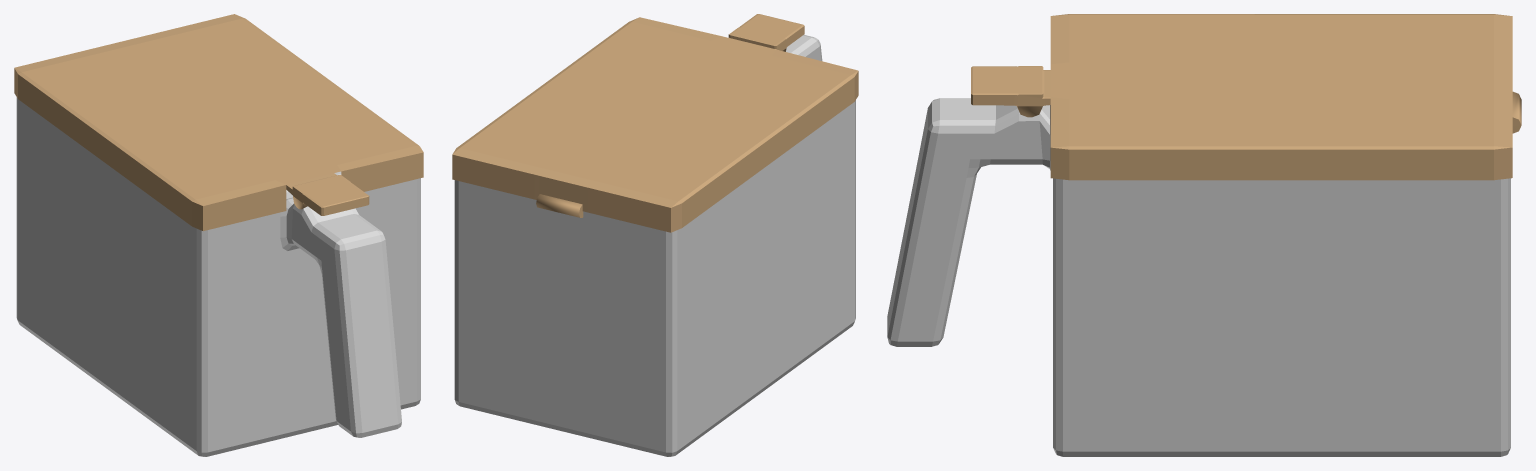
The model's file is sugar10090241.fbx.
The picture shows the model from 3 angles, left to right: view 1: azimuth 30°, elevation 25°; view 2: azimuth 150°, elevation 25°; view 3: azimuth 270°, elevation 25°; orthographic projection. The views are drawn at different scales.
Parts seen in each view (by area): view 1: youki, futa; view 2: youki, futa; view 3: youki, futa.
Part boxes in pixels (x1=…): youki: x1=16, y1=97, x2=420, y2=456; futa: x1=14, y1=14, x2=423, y2=231; youki: x1=454, y1=35, x2=855, y2=456; futa: x1=452, y1=14, x2=858, y2=232; youki: x1=887, y1=98, x2=1510, y2=456; futa: x1=971, y1=14, x2=1521, y2=180.
Size of the model in its own units: 1.4 by 1.51 by 2.77.
